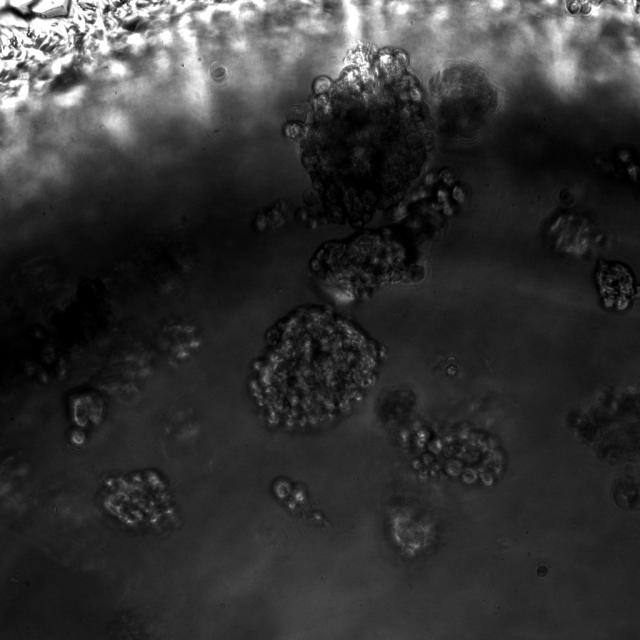organoid: (255, 43, 466, 301), (249, 305, 384, 431), (68, 321, 200, 446), (376, 388, 505, 486), (428, 61, 501, 143), (567, 385, 639, 463), (100, 469, 178, 534), (542, 188, 606, 258), (385, 496, 437, 559), (273, 476, 328, 526), (595, 260, 639, 311), (612, 475, 639, 510), (566, 0, 601, 15), (209, 62, 228, 81), (446, 356, 458, 376), (537, 564, 548, 577)
